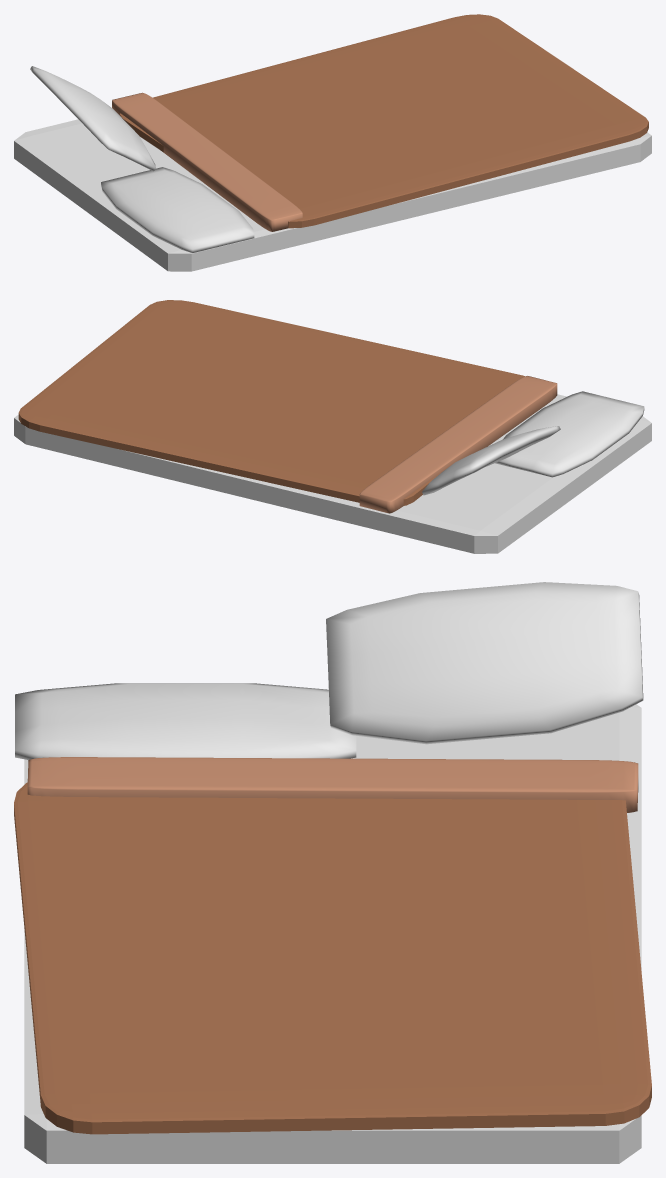
File: SM_Bed.fbx
3 views of the same model, one above another, from view 1: azimuth 30°, elevation 25°; view 2: azimuth 150°, elevation 25°; view 3: azimuth 270°, elevation 25° (orthographic). The views are drawn at different scales.
Visible parts, largest first — view 1: SM_Bed; view 2: SM_Bed; view 3: SM_Bed.
Part boxes in pixels (x1=…): SM_Bed: x1=14, y1=14, x2=651, y2=271; SM_Bed: x1=14, y1=300, x2=651, y2=553; SM_Bed: x1=14, y1=582, x2=651, y2=1163.
Bounding box in the file's own units: 340 × 206 × 56.71.
